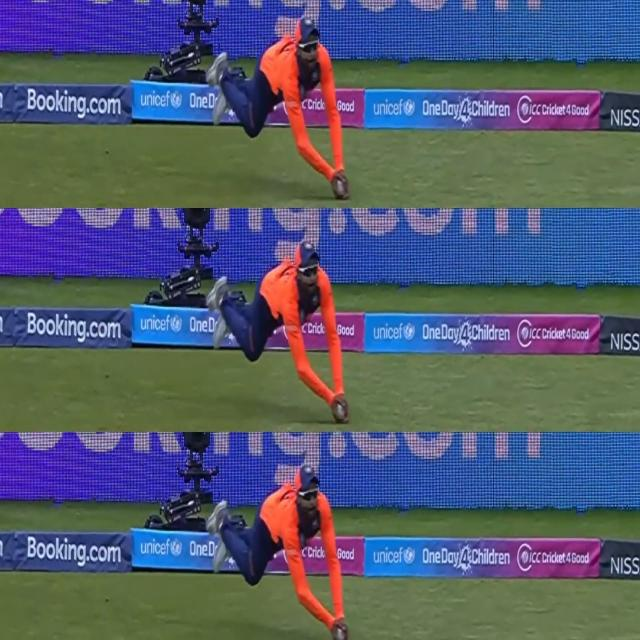ball: (336, 174, 348, 196), (335, 399, 345, 422), (335, 622, 345, 640)
